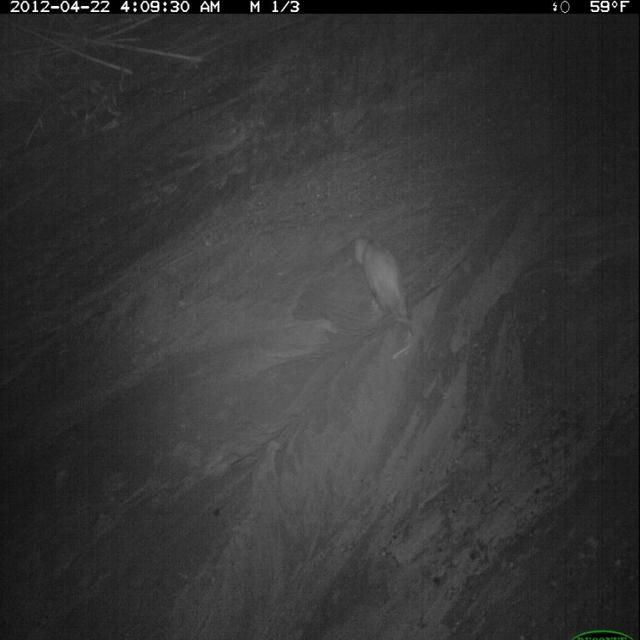opossum: (352, 233, 417, 342)
